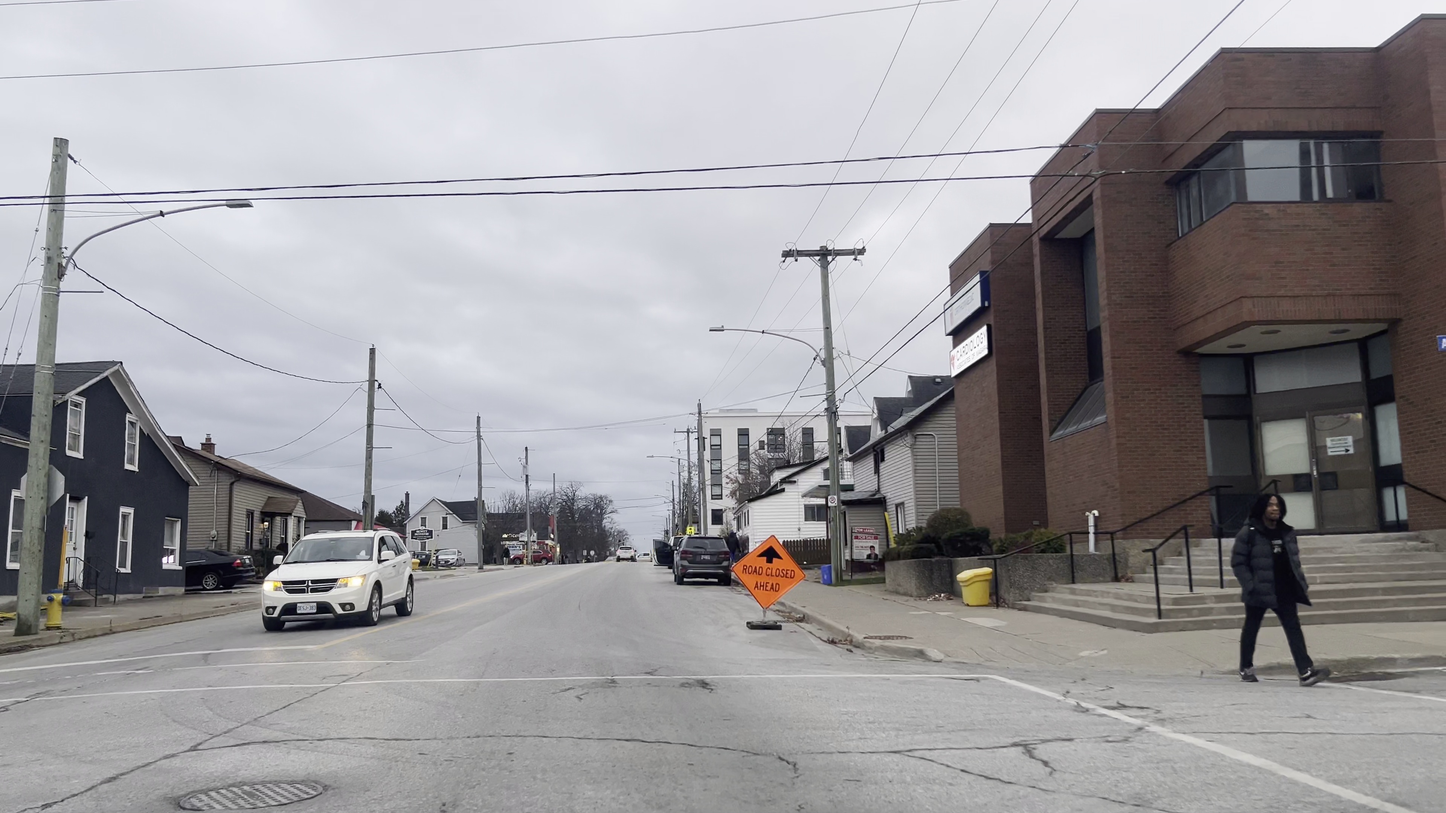construction: (719, 521, 808, 634)
cracks: (997, 724, 1088, 787), (1059, 679, 1164, 733), (643, 666, 732, 705), (0, 681, 77, 716)
